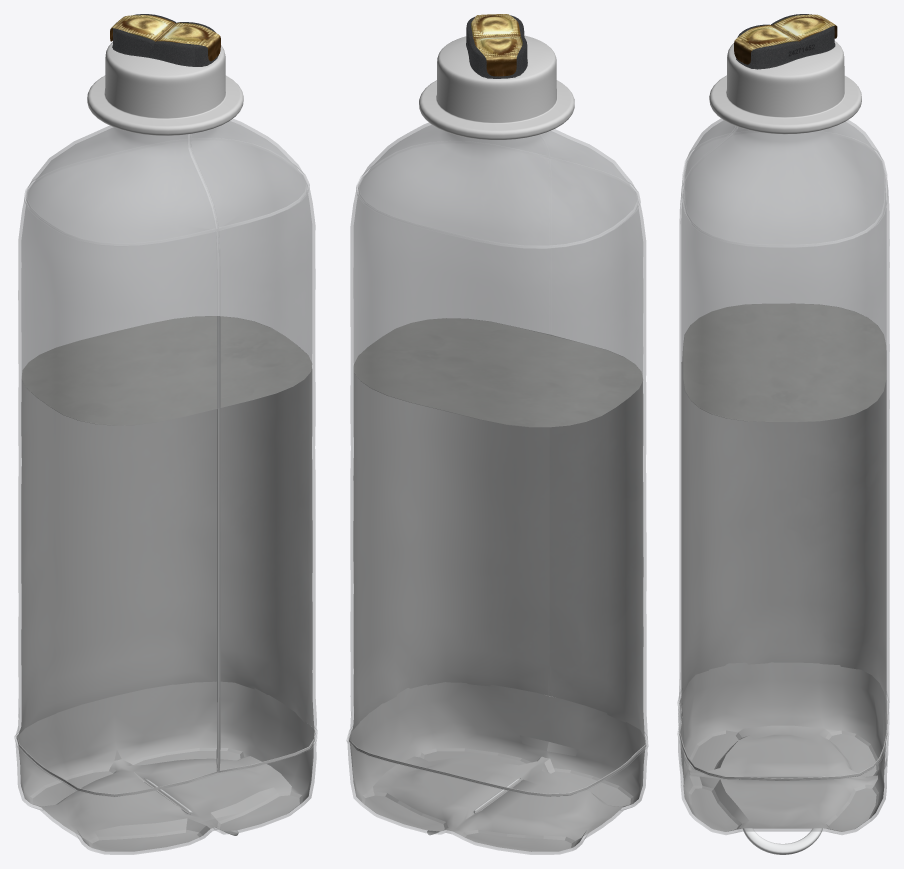
The model's file is A1_Posicion_Capsula_corregida-576ef6.glb.
The picture shows the model from 3 angles, left to right: view 1: azimuth 30°, elevation 25°; view 2: azimuth 150°, elevation 25°; view 3: azimuth 270°, elevation 25°; orthographic projection. The views are drawn at different scales.
Parts seen in each view (by area): view 1: BotellaPlastica, LiquidoSuperficie, Sombrero, Caperuzo, Solapa1, Solapa; view 2: BotellaPlastica, LiquidoSuperficie, Sombrero, Solapa, Caperuzo, Solapa1; view 3: BotellaPlastica, LiquidoSuperficie, Sombrero, Caperuzo, Solapa1, Solapa, Agarre.
Boxes of the visible parts, x1,y1,x2,y2 form: BotellaPlastica: (14, 119, 317, 854); LiquidoSuperficie: (21, 316, 312, 425); Sombrero: (87, 42, 243, 135); Caperuzo: (112, 14, 218, 66); Solapa1: (155, 22, 220, 61); Solapa: (110, 15, 175, 41); BotellaPlastica: (346, 122, 648, 854); LiquidoSuperficie: (353, 318, 642, 427); Sombrero: (419, 35, 574, 139); Solapa: (473, 36, 522, 76); Caperuzo: (466, 15, 527, 78); Solapa1: (471, 14, 520, 38); BotellaPlastica: (677, 118, 889, 834); LiquidoSuperficie: (683, 304, 885, 422); Sombrero: (709, 41, 861, 134); Caperuzo: (736, 14, 835, 69); Solapa1: (734, 25, 798, 64); Solapa: (772, 14, 837, 41); Agarre: (739, 776, 824, 854).
Bounding box in the file's own units: 0.075 × 0.2299 × 0.0556.
Materials: 9 (7 with a texture image).
